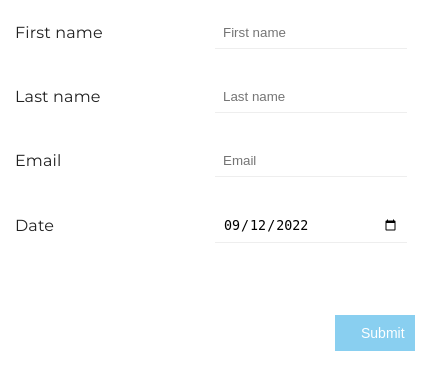
User › it should validate lastName field
The image size is (432, 368).
In the field labelled "First name": x=311, y=33 [215,17,407,49], type "John"
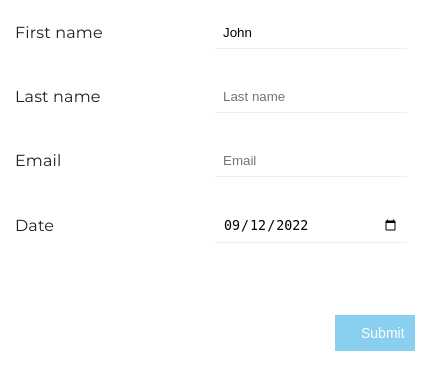
In the field labelled "Email": x=311, y=161 [215,145,407,177], type "email@test.pl"
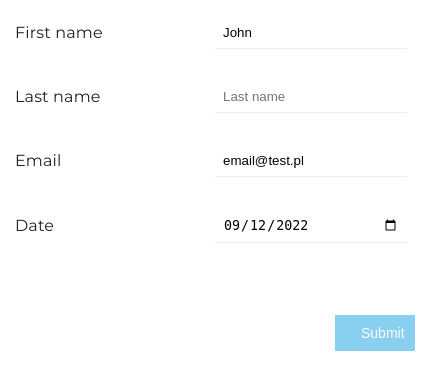
In the date field labelled "Date": x=311, y=226 [215,209,407,243], type "2022-10-09"
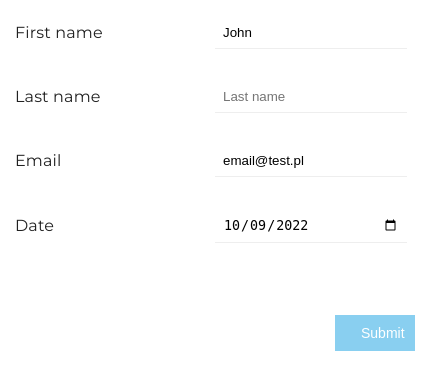
Click the button "Submit": x=375, y=333 [335,315,415,351]
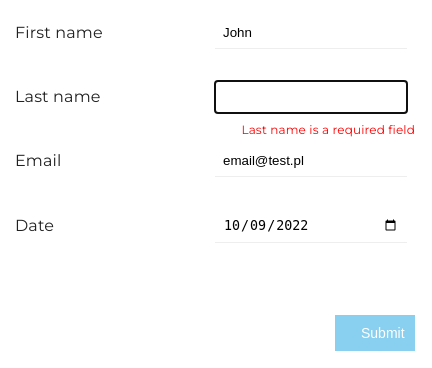
Expected: the text "Last name is a required field" is shown, [241,122,415,137]
